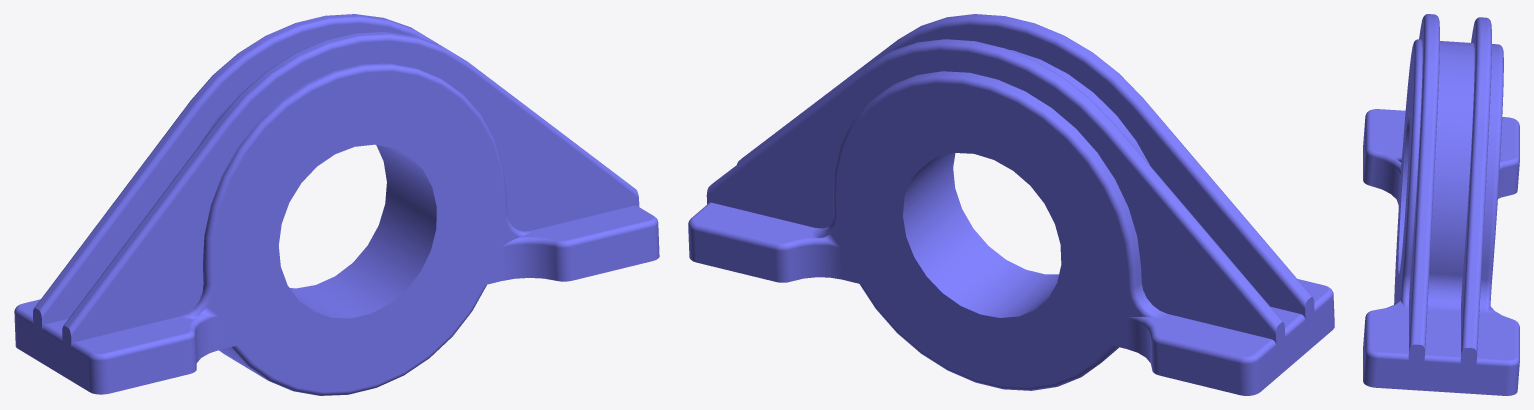
3 views of the same model, side by side, from view 1: azimuth 30°, elevation 25°; view 2: azimuth 150°, elevation 25°; view 3: azimuth 270°, elevation 25° (orthographic). The views are drawn at different scales.
Visible parts, largest first — view 1: 0C6E641F3DC18749666DF3C59C03E7384C05AFCA|:|4B05508C3579_df67; view 2: 0C6E641F3DC18749666DF3C59C03E7384C05AFCA|:|4B05508C3579_df67; view 3: 0C6E641F3DC18749666DF3C59C03E7384C05AFCA|:|4B05508C3579_df67.
Boxes of the visible parts, x1,y1,x2,y2 form: 0C6E641F3DC18749666DF3C59C03E7384C05AFCA|:|4B05508C3579_df67: (14, 14, 659, 395); 0C6E641F3DC18749666DF3C59C03E7384C05AFCA|:|4B05508C3579_df67: (688, 14, 1334, 395); 0C6E641F3DC18749666DF3C59C03E7384C05AFCA|:|4B05508C3579_df67: (1363, 14, 1519, 395).
Bounding box in the file's own units: 226 × 131 × 60.73.
